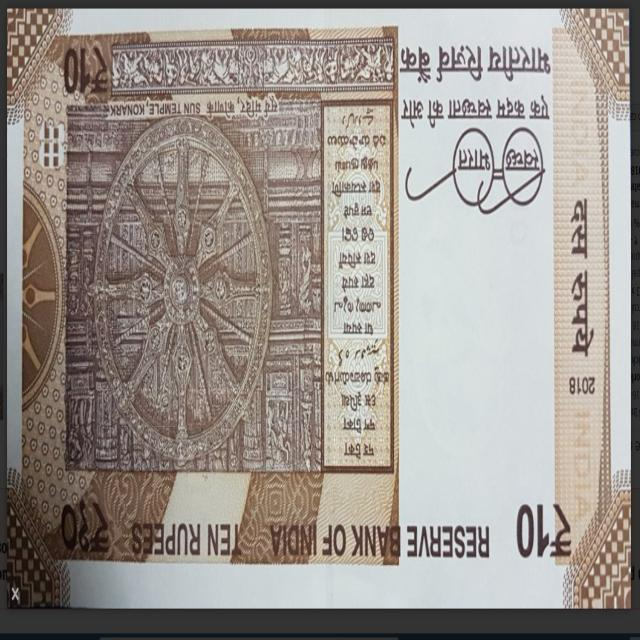10IndianRupees: (9, 9, 633, 608), (9, 9, 404, 604), (248, 7, 633, 608)
